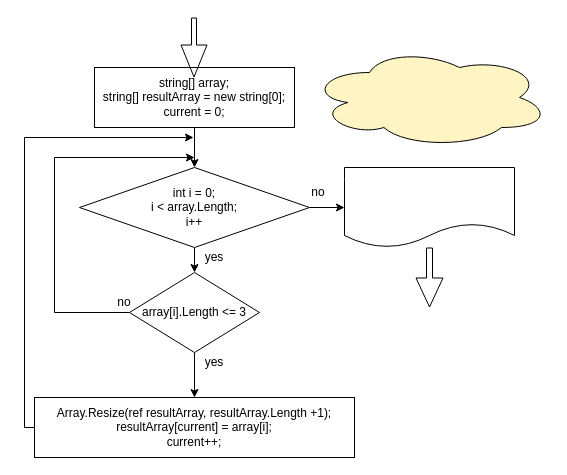
The diagram is 567 pixels wide and 475 high, and some of its shapes have lost their labels. Here are the shapes that lost their labels. From the top down, the centre of each, then its label:
At [429,97]: "Metod ElementLess3".
At [429,207]: "resultArray".
